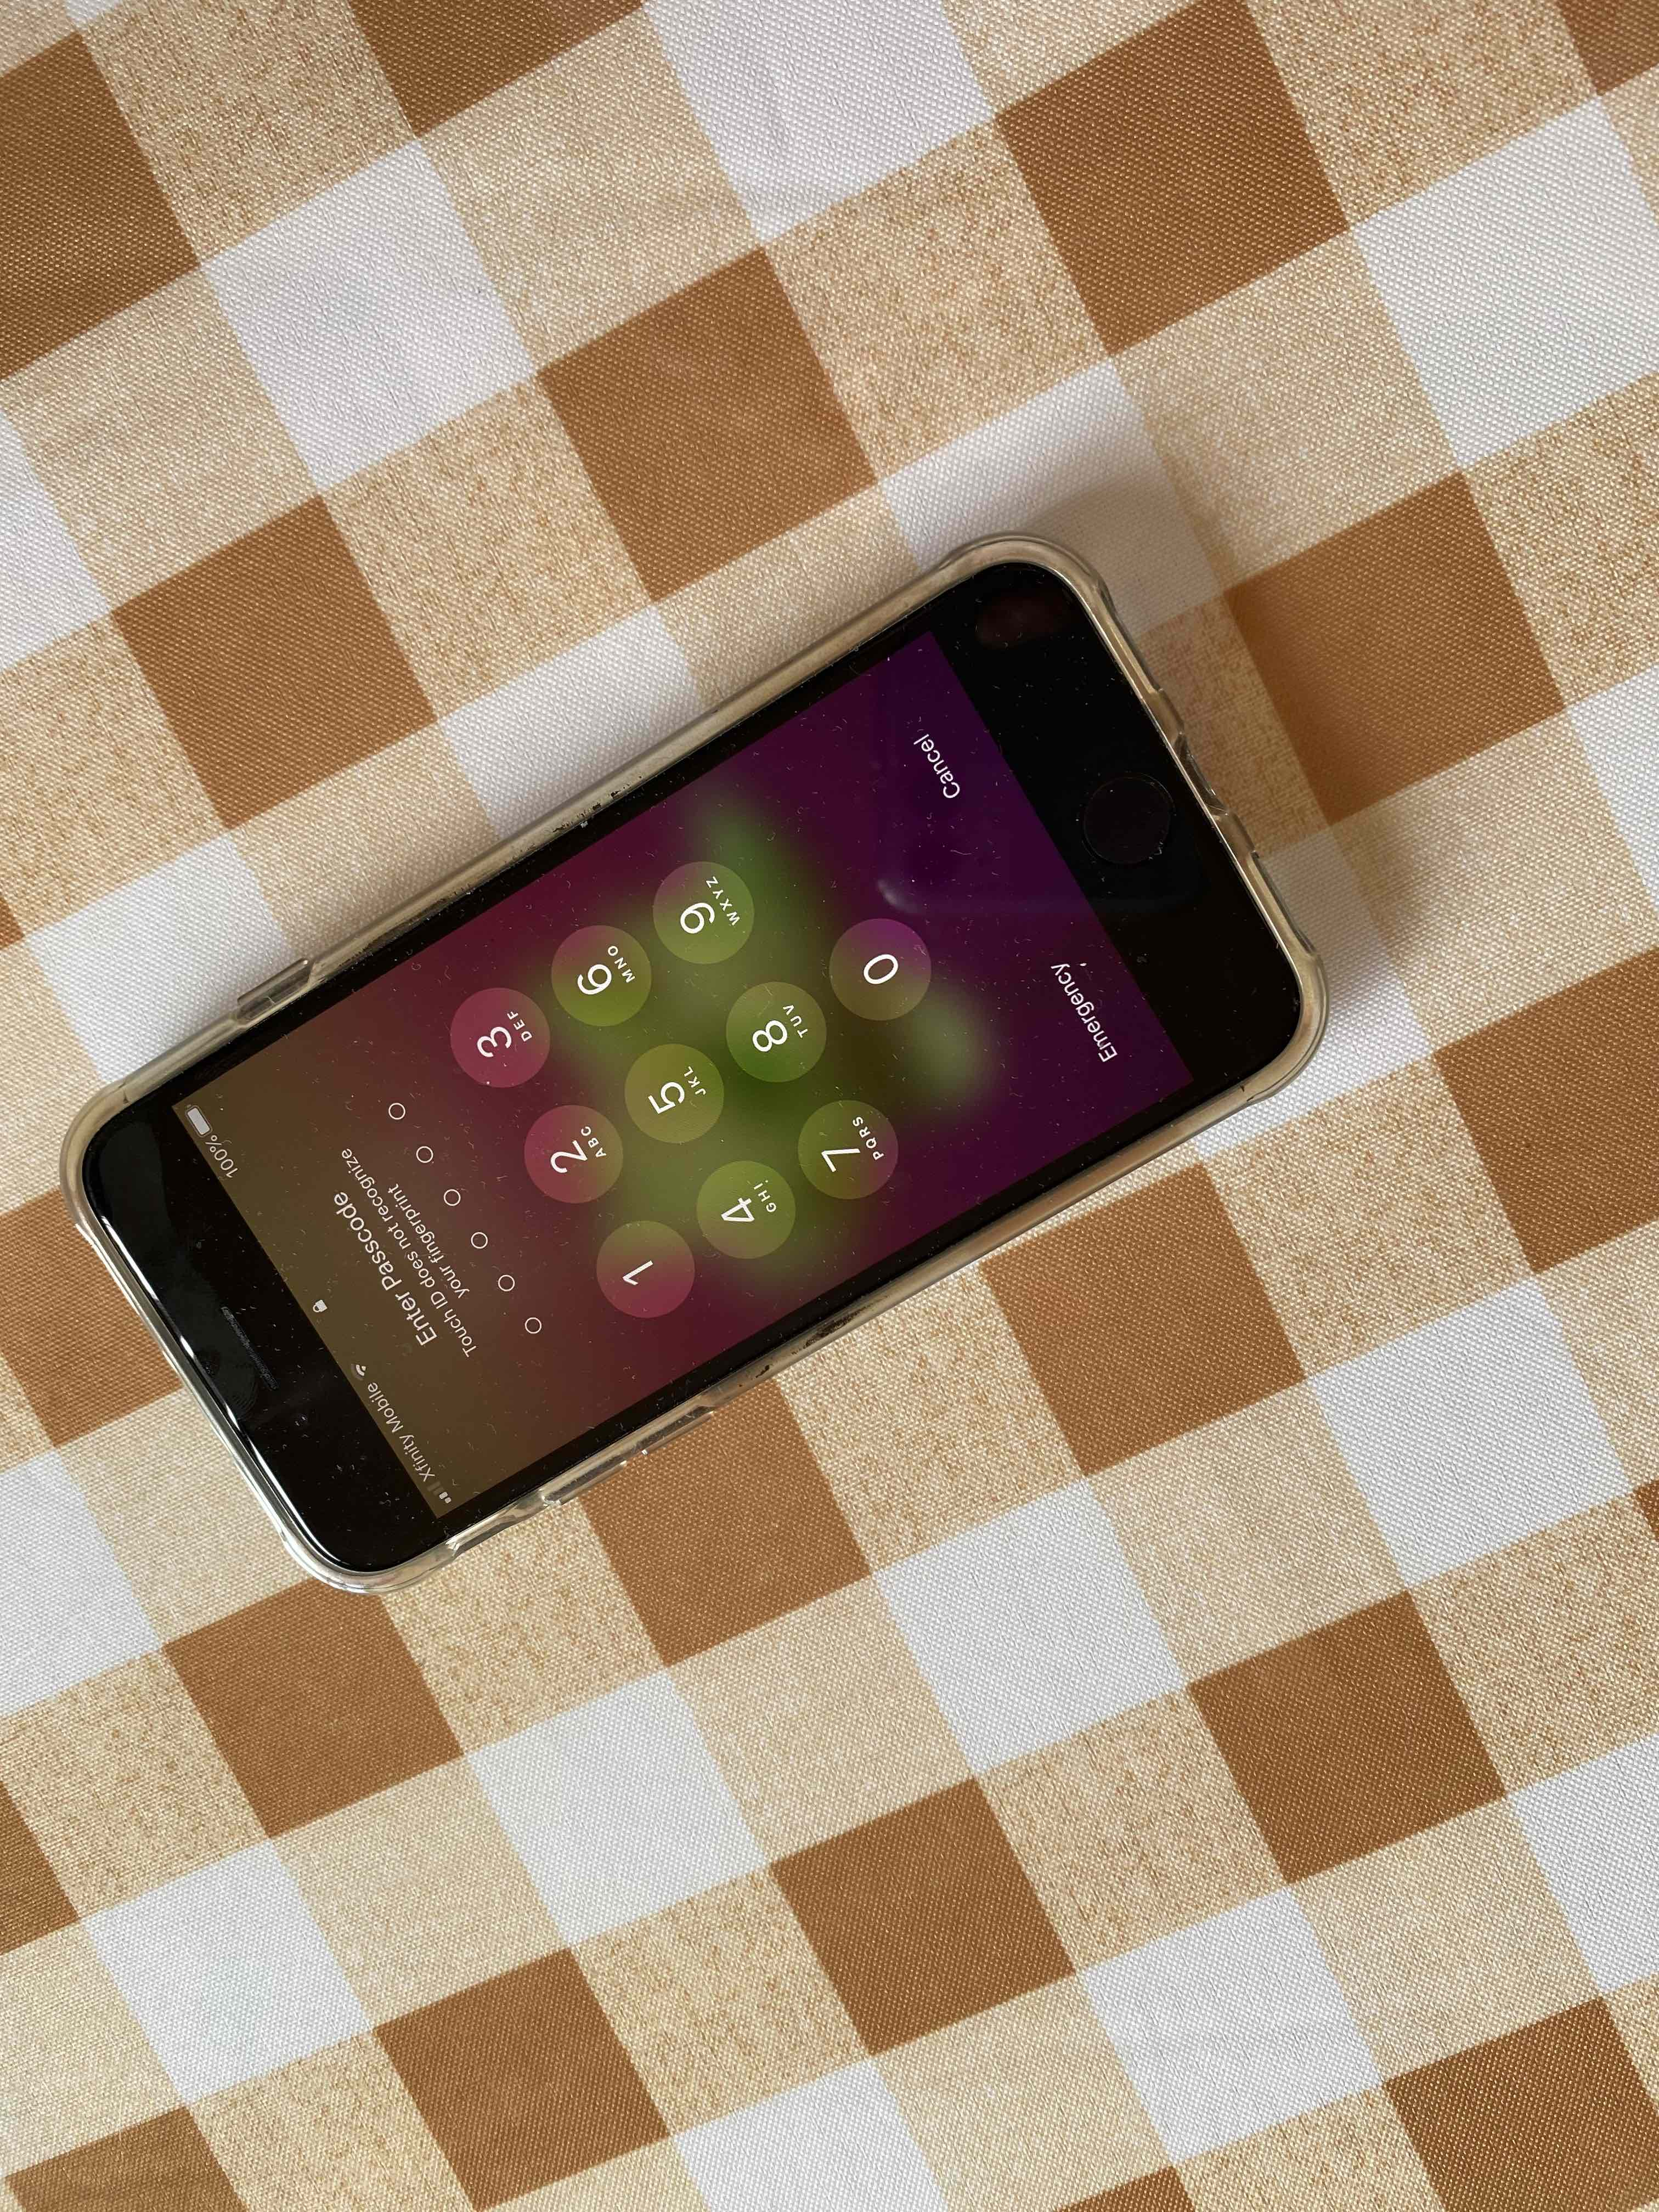Cell Phone: (66, 543, 1324, 1585)
